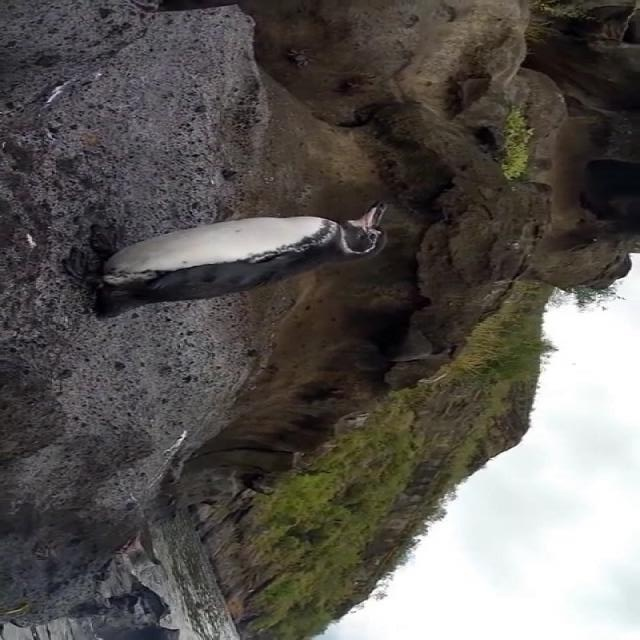penguin: (63, 199, 390, 322)
